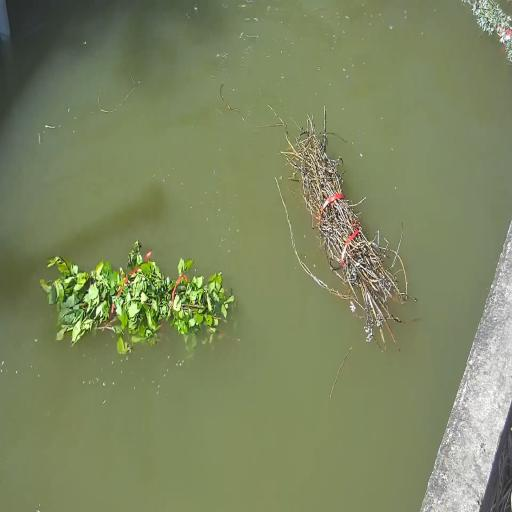twig: (278, 119, 409, 344), (41, 241, 234, 354), (471, 0, 512, 62)
